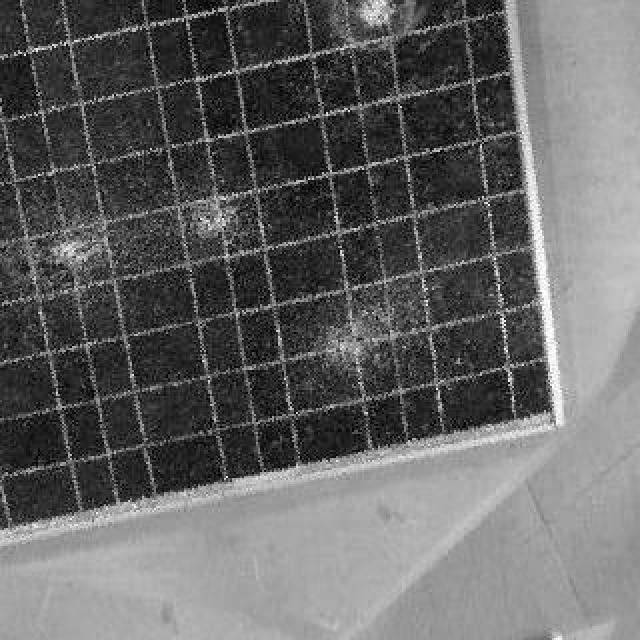Physical-damage: (8, 150, 277, 317), (294, 277, 464, 428), (295, 0, 453, 89)
